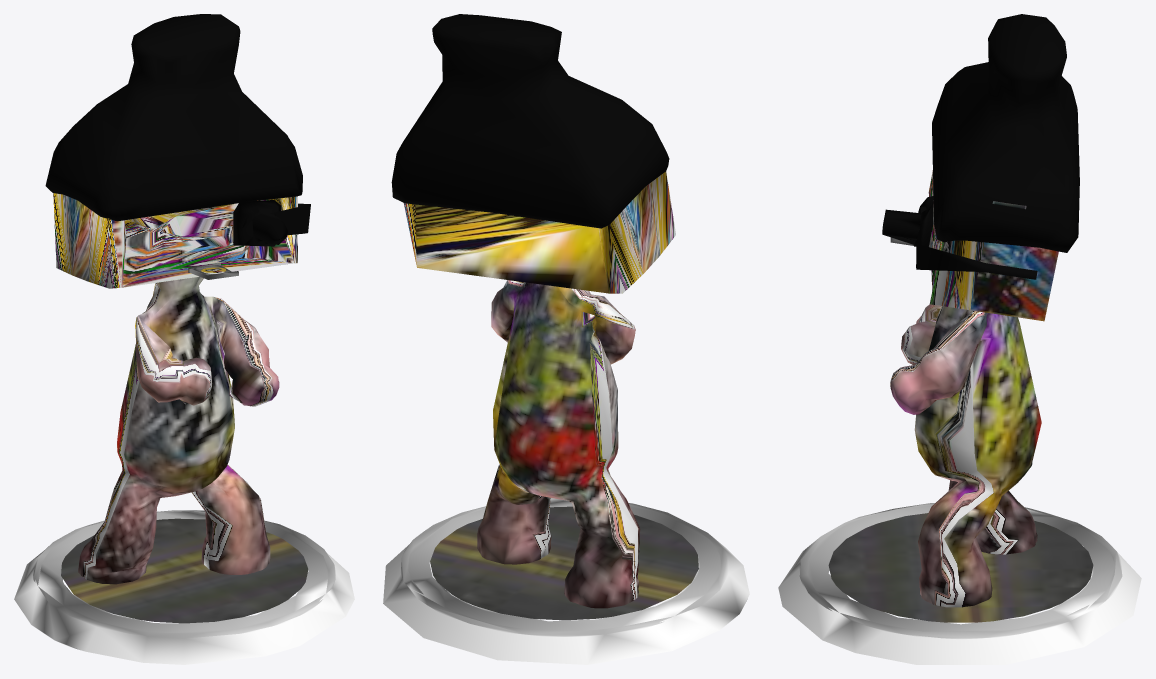
The picture shows the model from 3 angles, left to right: view 1: azimuth 30°, elevation 25°; view 2: azimuth 150°, elevation 25°; view 3: azimuth 270°, elevation 25°; orthographic projection. The views are drawn at different scales.
Size of the model in its own units: 1.42 by 2.5 by 1.44.
Materials: 9 (4 with a texture image).
